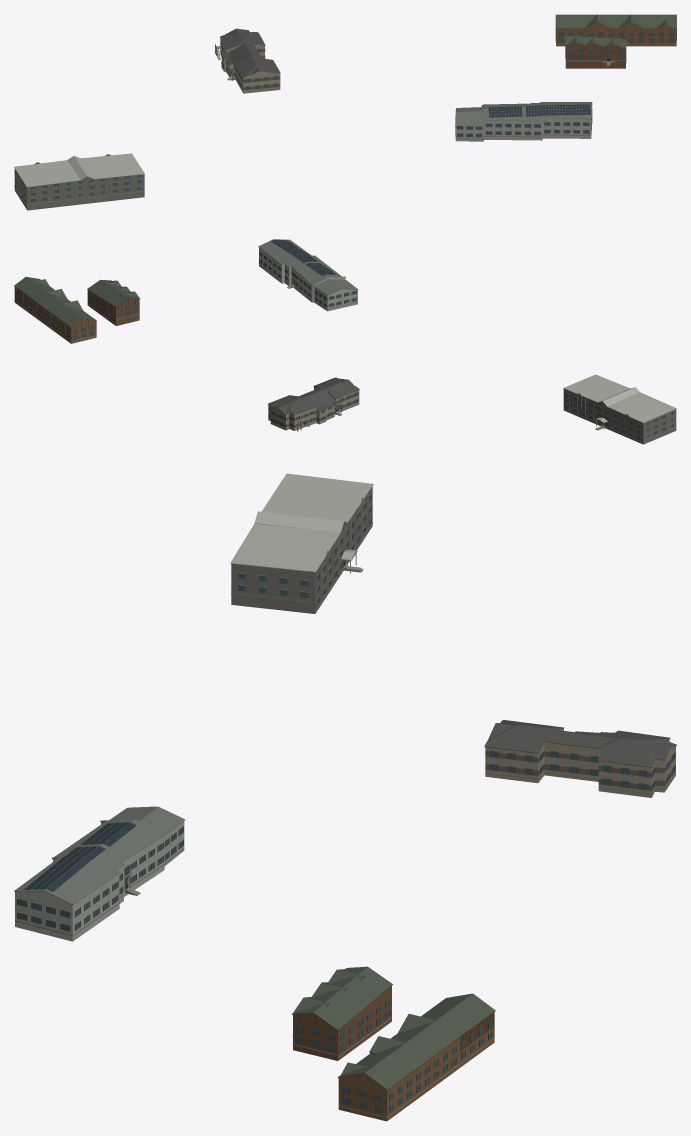
Rendered from site.glb.
The picture shows the model from 3 angles, top to bottom: view 1: azimuth 30°, elevation 25°; view 2: azimuth 150°, elevation 25°; view 3: azimuth 270°, elevation 25°; orthographic projection. The views are drawn at different scales.
Visible parts, largest first — view 1: roof-3ac532c7, roof-f2c952e3, roof-e3c224a3, roof-9c95368e, roof-1a10907d; view 2: roof-3ac532c7, roof-f2c952e3, roof-e3c224a3, roof-9c95368e, roof-1a10907d; view 3: roof-3ac532c7, roof-f2c952e3, roof-e3c224a3, roof-9c95368e, roof-1a10907d.
Part boxes in pixels (x1=…): roof-3ac532c7: x1=14, y1=153, x2=144, y2=210; roof-f2c952e3: x1=455, y1=102, x2=592, y2=141; roof-e3c224a3: x1=555, y1=14, x2=676, y2=46; roof-9c95368e: x1=215, y1=28, x2=280, y2=93; roof-1a10907d: x1=565, y1=35, x2=626, y2=68; roof-3ac532c7: x1=563, y1=374, x2=676, y2=444; roof-f2c952e3: x1=258, y1=239, x2=358, y2=311; roof-e3c224a3: x1=14, y1=276, x2=96, y2=343; roof-9c95368e: x1=268, y1=377, x2=359, y2=431; roof-1a10907d: x1=87, y1=279, x2=139, y2=325; roof-3ac532c7: x1=230, y1=473, x2=373, y2=613; roof-f2c952e3: x1=14, y1=806, x2=185, y2=941; roof-e3c224a3: x1=337, y1=993, x2=495, y2=1121; roof-9c95368e: x1=484, y1=720, x2=676, y2=797; roof-1a10907d: x1=291, y1=966, x2=392, y2=1060.
Size of the model in its own units: 284 by 16.7 by 134.
